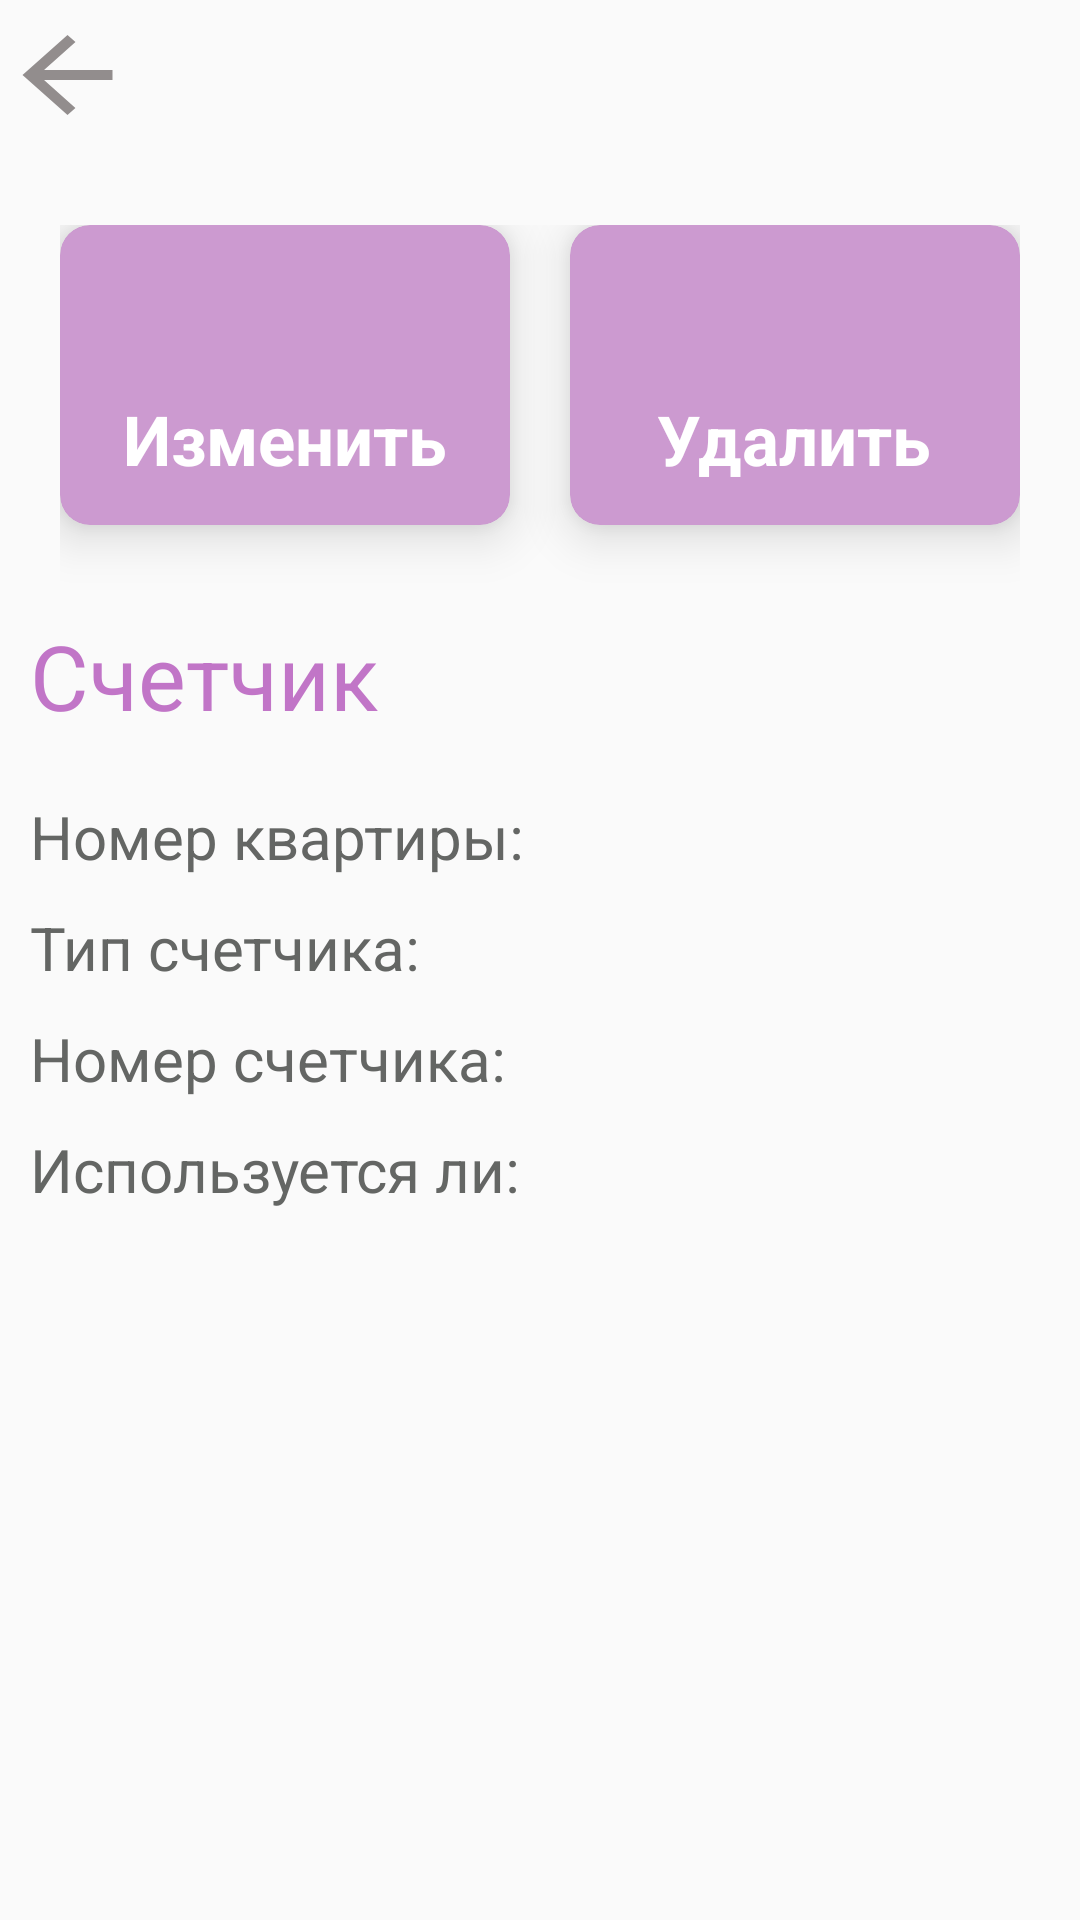

Locate icon controls on the screen. Image size 1080 x 1920, boxes as bbox(x1, y1, x2, y2).
arrow back: bbox(23, 35, 113, 115)
